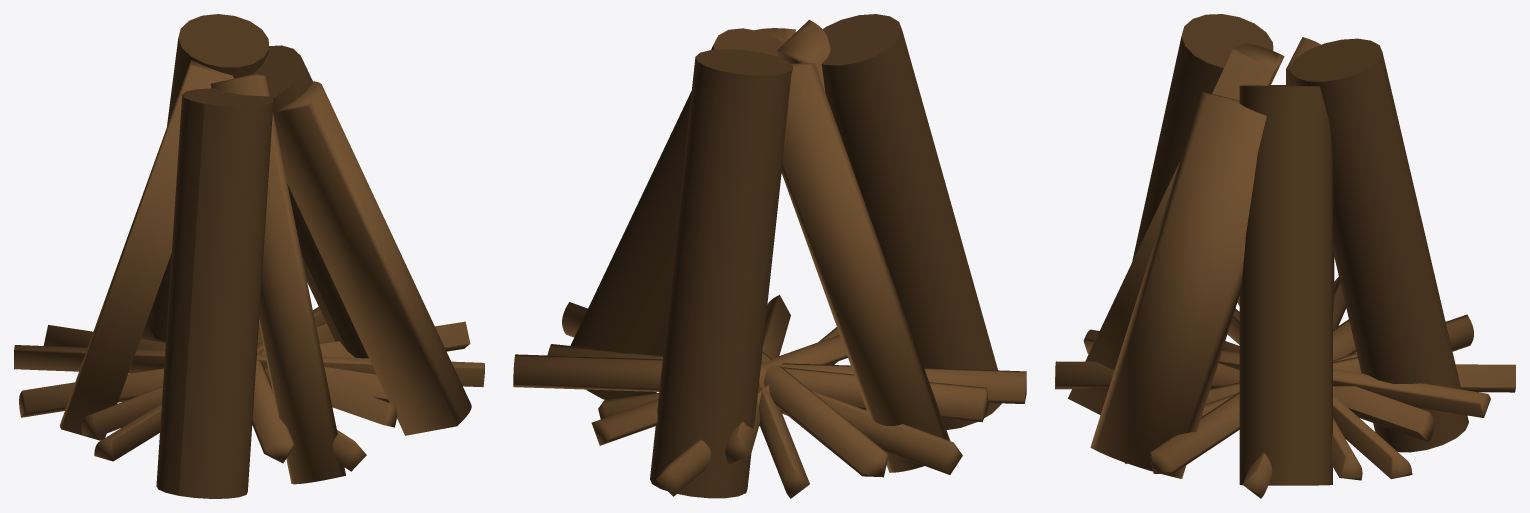
Rendered from Bon Fires.glb.
3 renders of one model, left to right at view 1: azimuth 30°, elevation 25°; view 2: azimuth 150°, elevation 25°; view 3: azimuth 270°, elevation 25°, orthographic. The views are drawn at different scales.
Visible parts, largest first — view 1: WoodCut (×11), Wood (×3); view 2: Wood (×3), WoodCut (×11); view 3: Wood (×3), WoodCut (×12).
Boxes of the visible parts, x1,y1,x2,y2 form: WoodCut (×11): (14,60,484,484); Wood (×3): (146,14,368,498); Wood (×3): (570,14,1001,498); WoodCut (×11): (513,19,1026,498); Wood (×3): (1132,14,1468,485); WoodCut (×12): (1055,37,1515,498).
Bounding box in the file's own units: 0.5076 × 0.4559 × 0.4906.
